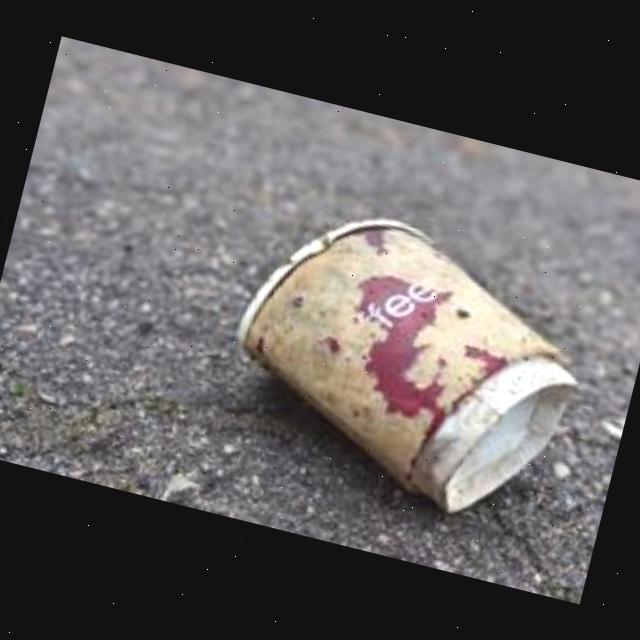trash: (205, 188, 608, 540)
